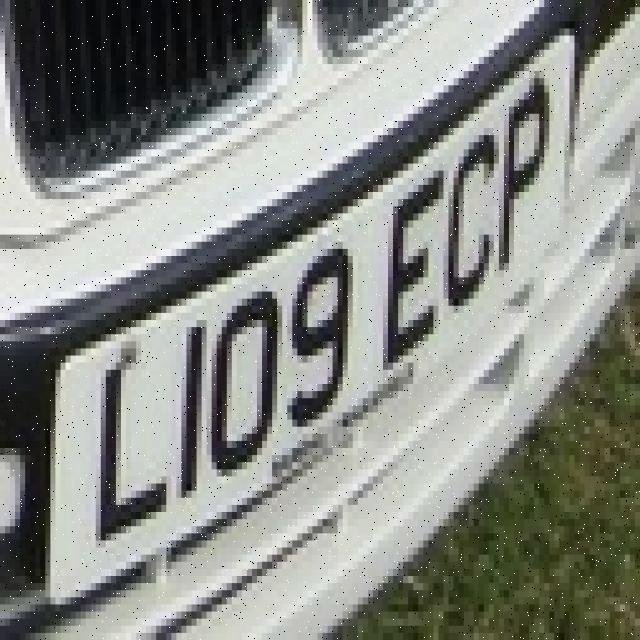licenseplate: (24, 33, 586, 612)
